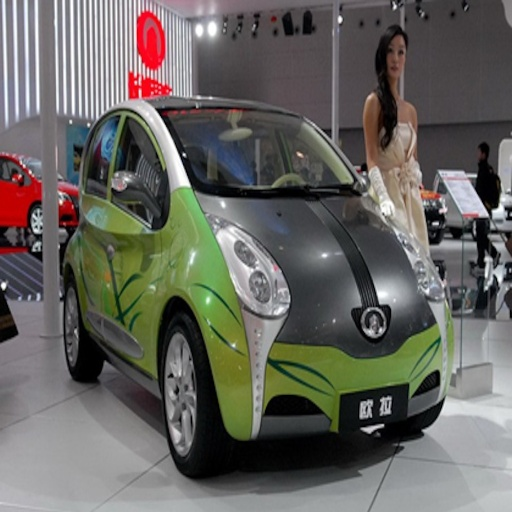front_bumper: (204, 308, 445, 439)
front_right_door: (107, 110, 158, 362)
trunk: (277, 208, 358, 326)
